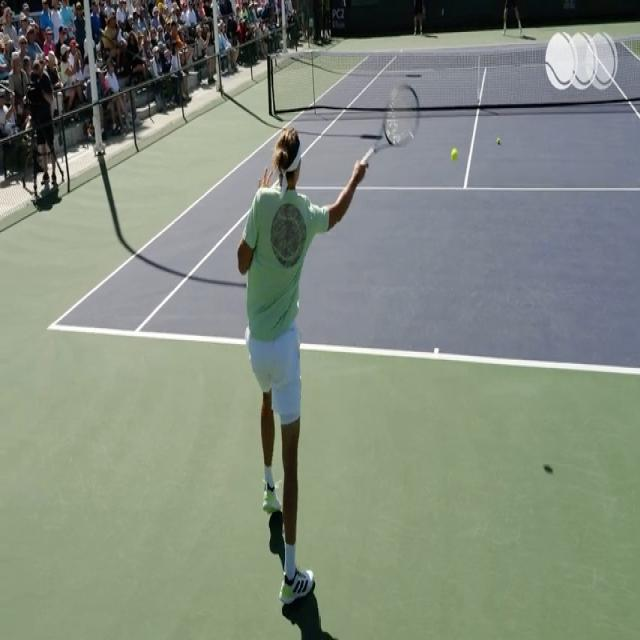forehand-stroke: (229, 84, 420, 612)
